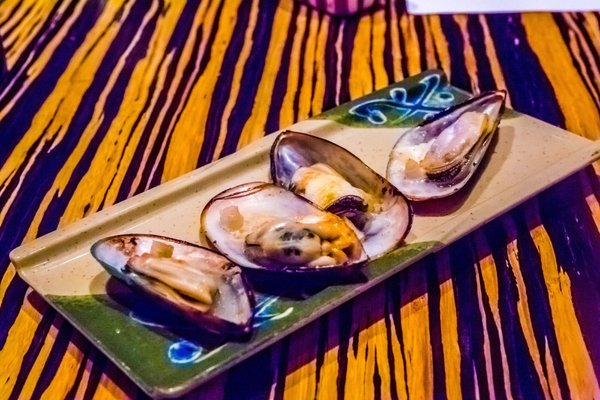sushi: (386, 90, 505, 200)
